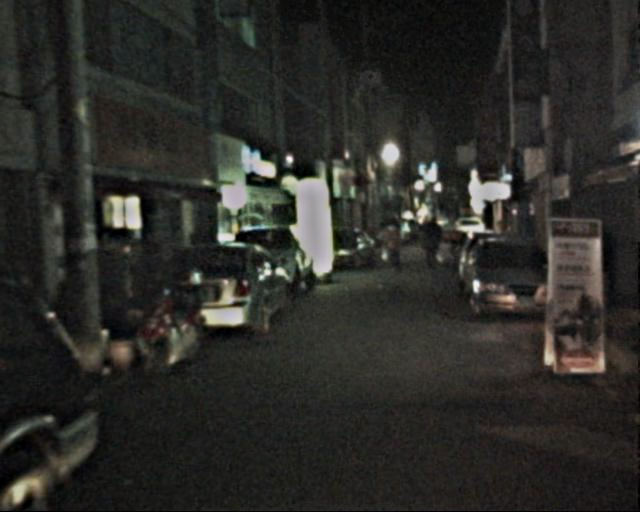person: (385, 219, 410, 279), (423, 219, 445, 273)
